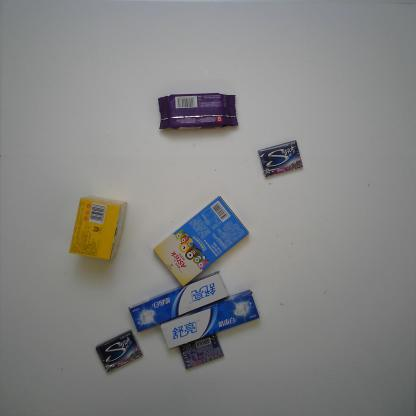Dessert: (151, 194, 251, 288), (157, 89, 239, 134)
Gum: (92, 328, 144, 374), (176, 330, 226, 372), (256, 139, 304, 179)
Instant Drink: (67, 194, 128, 266)
Personal Hygiene: (126, 270, 232, 333), (158, 289, 262, 353)
